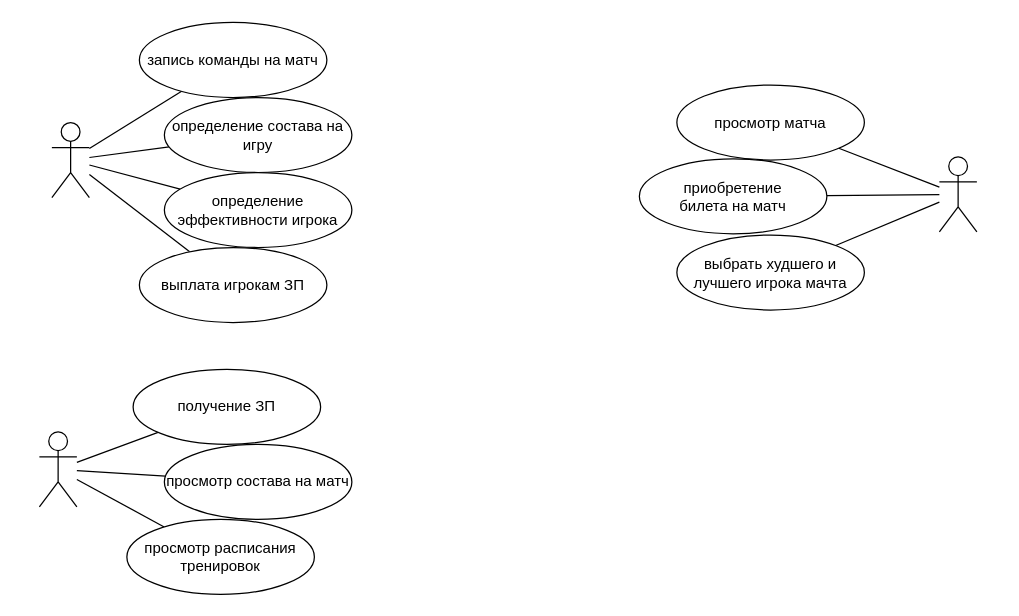
The diagram is 1019 pixels wide and 616 high, and some of its shapes have lost their labels. The box of each missing label's shape, as (x1, y1, x2, y2) in pixels:
Болельщик: (938, 156, 977, 232)
Тренер: (51, 121, 89, 198)
Футболист: (38, 431, 77, 507)
